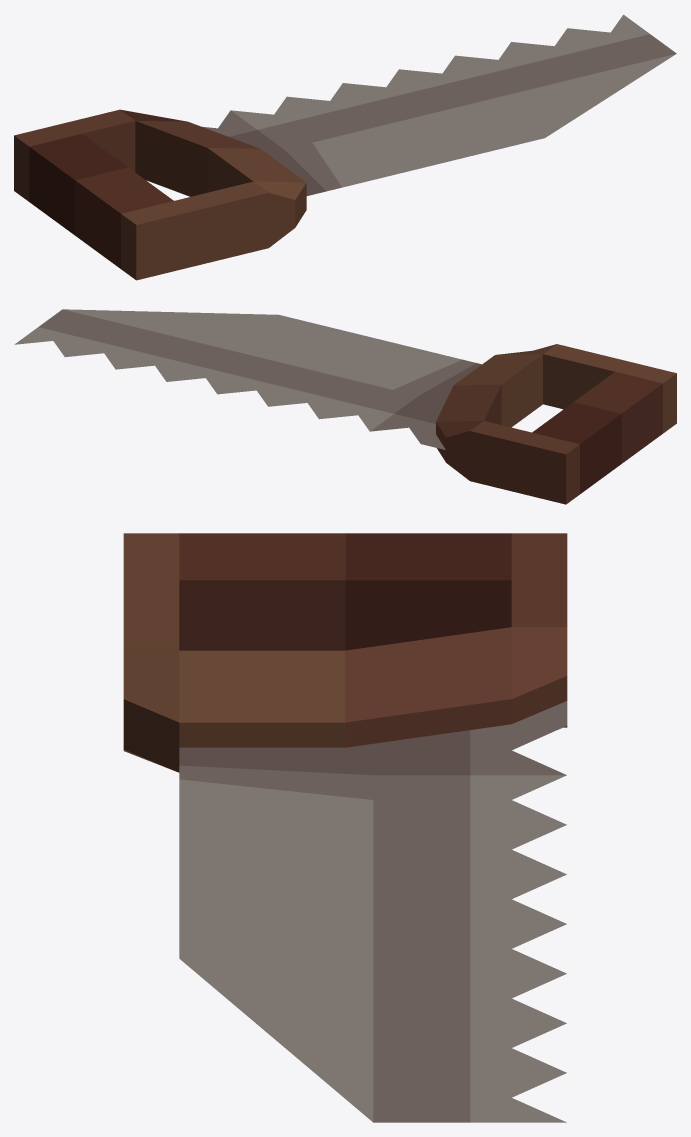
The model's file is saw.fbx.
3 renders of one model, top to bottom at view 1: azimuth 30°, elevation 25°; view 2: azimuth 150°, elevation 25°; view 3: azimuth 270°, elevation 25°, orthographic. The views are drawn at different scales.
Parts seen in each view (by area): view 1: blade, handle; view 2: blade, handle; view 3: blade, handle.
Boxes of the visible parts, x1,y1,x2,y2 form: blade: (202,14,676,195); handle: (14,109,306,280); blade: (14,309,481,449); handle: (436,344,676,504); blade: (179,701,567,1122); handle: (123,533,567,772).
Bounding box in the file's own units: 144 × 12.5 × 50.
1 material, 1 textured.
